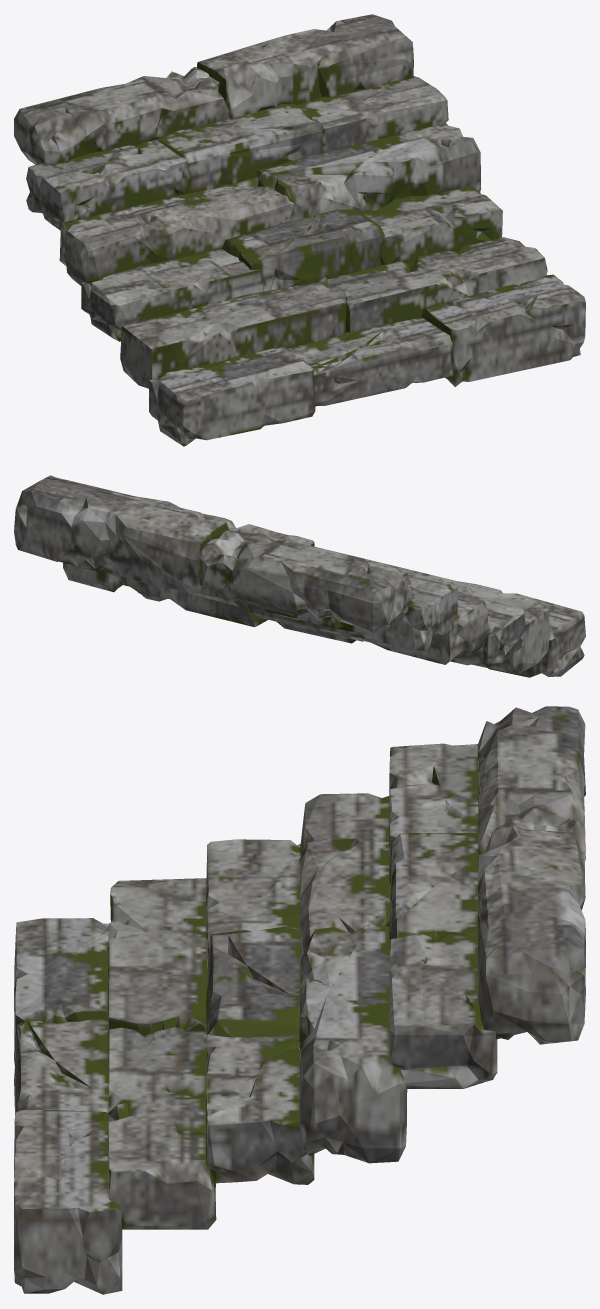
Rendered from Stair.fbx.
3 renders of one model, top to bottom at view 1: azimuth 30°, elevation 25°; view 2: azimuth 150°, elevation 25°; view 3: azimuth 270°, elevation 25°, orthographic. The views are drawn at different scales.
Visible parts, largest first — view 1: Stair; view 2: Stair; view 3: Stair.
Boxes of the visible parts, x1,y1,x2,y2 form: Stair: (14,14,585,446); Stair: (14,475,585,677); Stair: (14,706,585,1294).
Size of the model in its own units: 376 by 190 by 302.
1 material, 1 textured.
